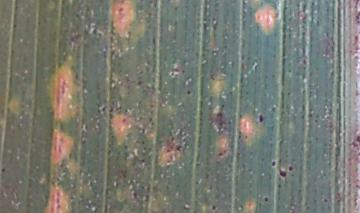tarspot: (133, 76, 147, 88), (256, 112, 266, 126), (276, 169, 289, 179), (209, 201, 220, 212), (183, 87, 195, 96), (261, 193, 270, 204), (226, 87, 235, 98), (269, 158, 278, 168), (274, 182, 284, 191), (287, 163, 295, 173), (322, 196, 330, 205), (1, 165, 8, 175)
